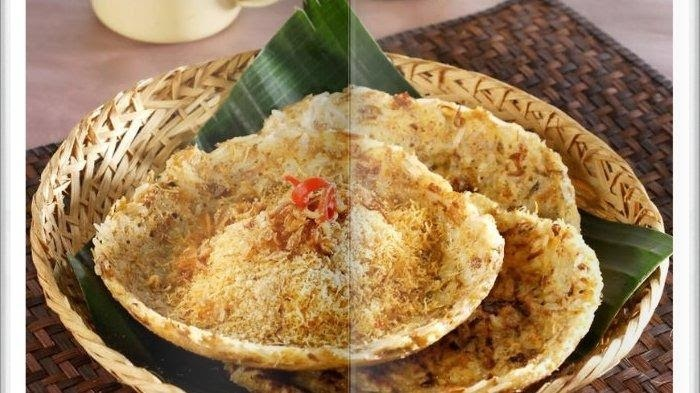kerak_telor: (89, 125, 505, 368)
